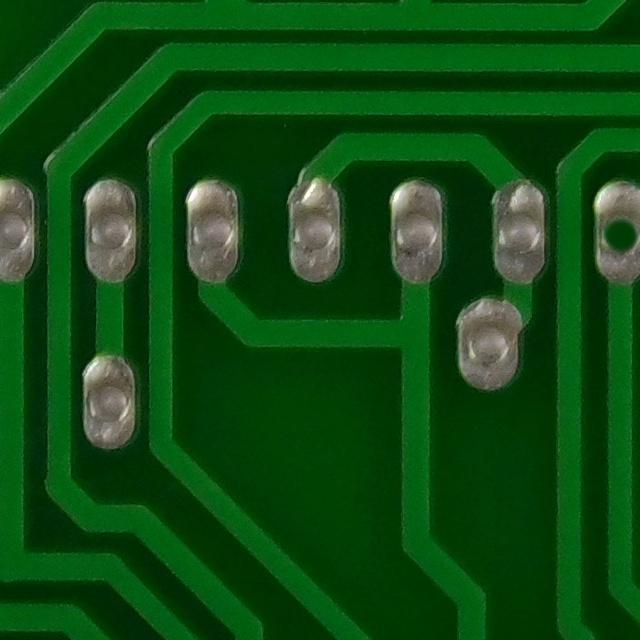missing_hole: (589, 203, 640, 273)
